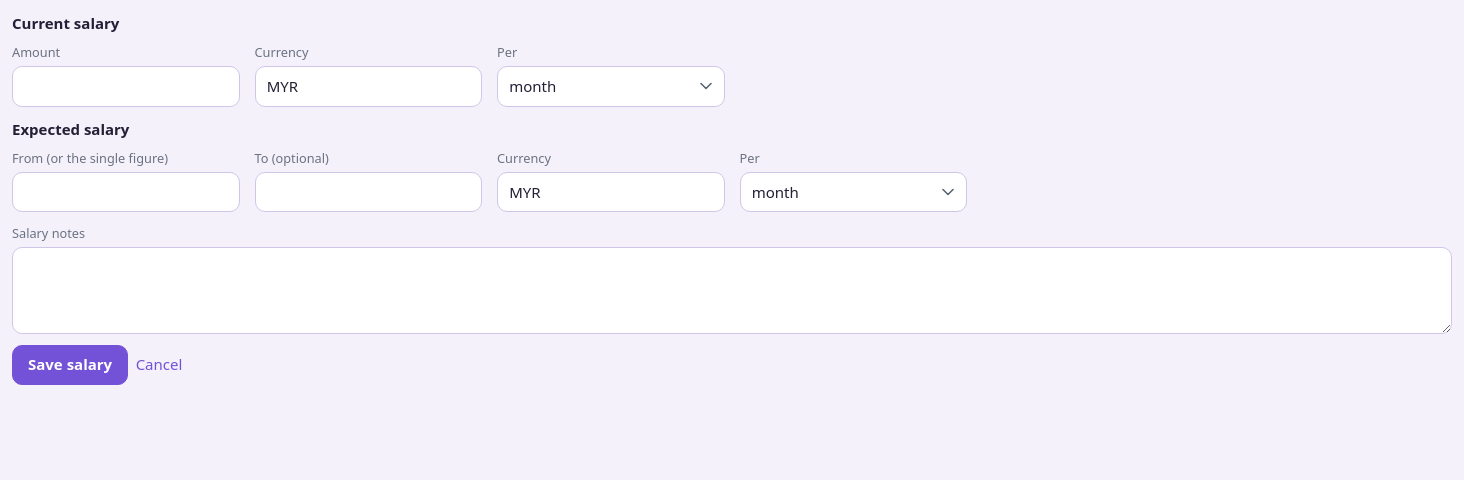
salary form › asks for From when only To is filled, instead of dropping the figure
The image size is (1464, 480).
Type "12000" into the field labelled "To (optional)". click: (368, 192)
box: x1=254 y1=172 x2=482 y2=212
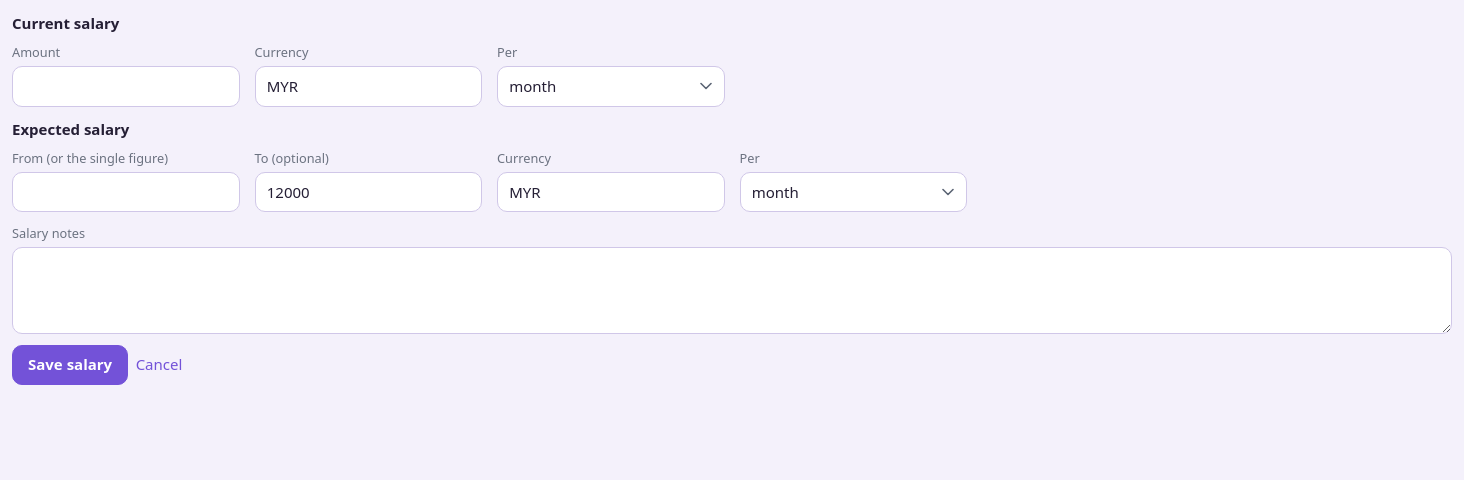
Click the button "Save salary". click: (70, 365)
box: x1=12 y1=345 x2=128 y2=385
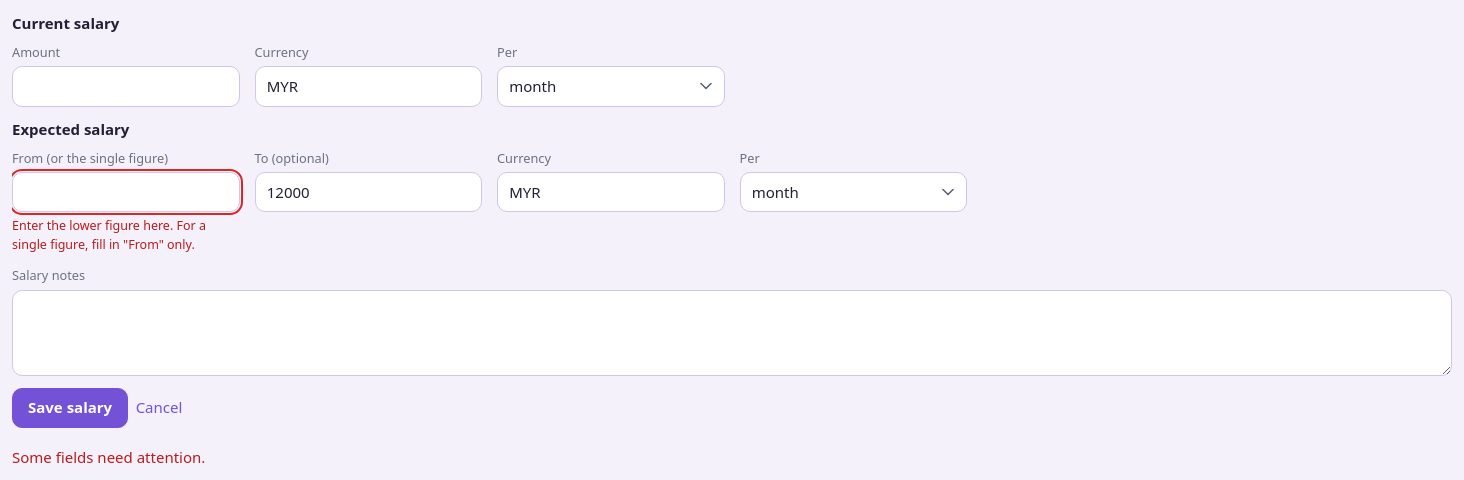
Now the text with class "error" shows "lower figure", box x1=12 y1=217 x2=206 y2=253
